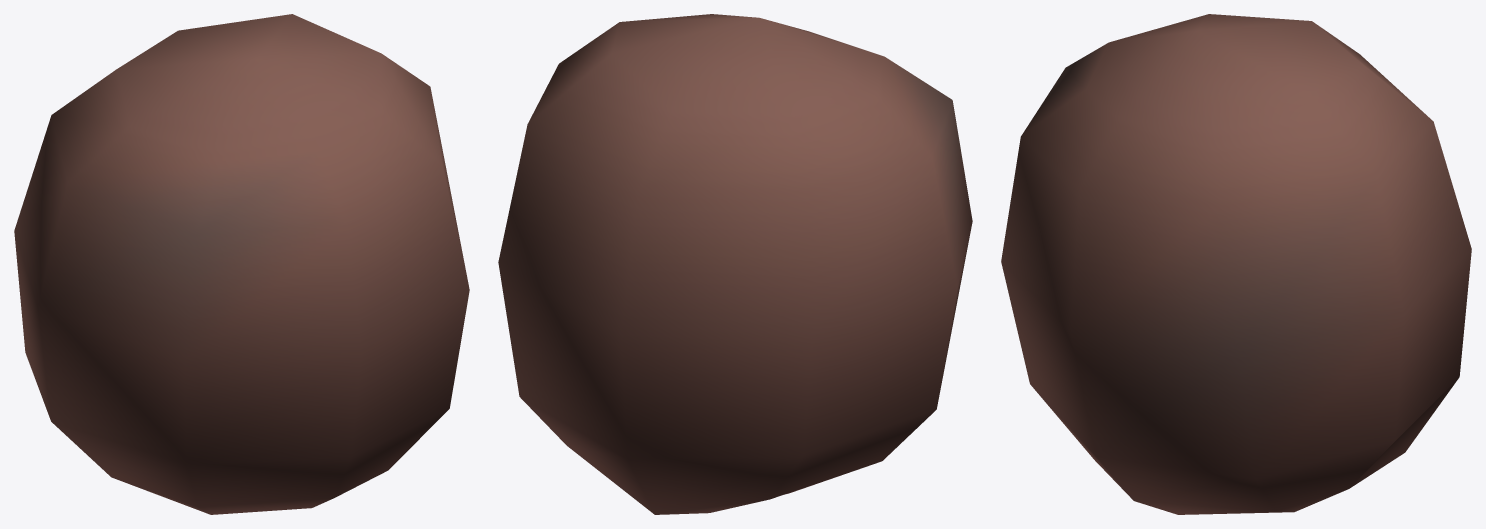
Rendered from patato_003.fbx.
The picture shows the model from 3 angles, left to right: view 1: azimuth 30°, elevation 25°; view 2: azimuth 150°, elevation 25°; view 3: azimuth 270°, elevation 25°; orthographic projection.
Visible parts, largest first — view 1: patato_003; view 2: patato_003; view 3: patato_003.
Boxes of the visible parts, x1,y1,x2,y2 form: patato_003: [14, 14, 469, 514]; patato_003: [498, 14, 972, 514]; patato_003: [1001, 14, 1471, 514].
Size of the model in its own units: 5.8 by 5.53 by 5.98.
